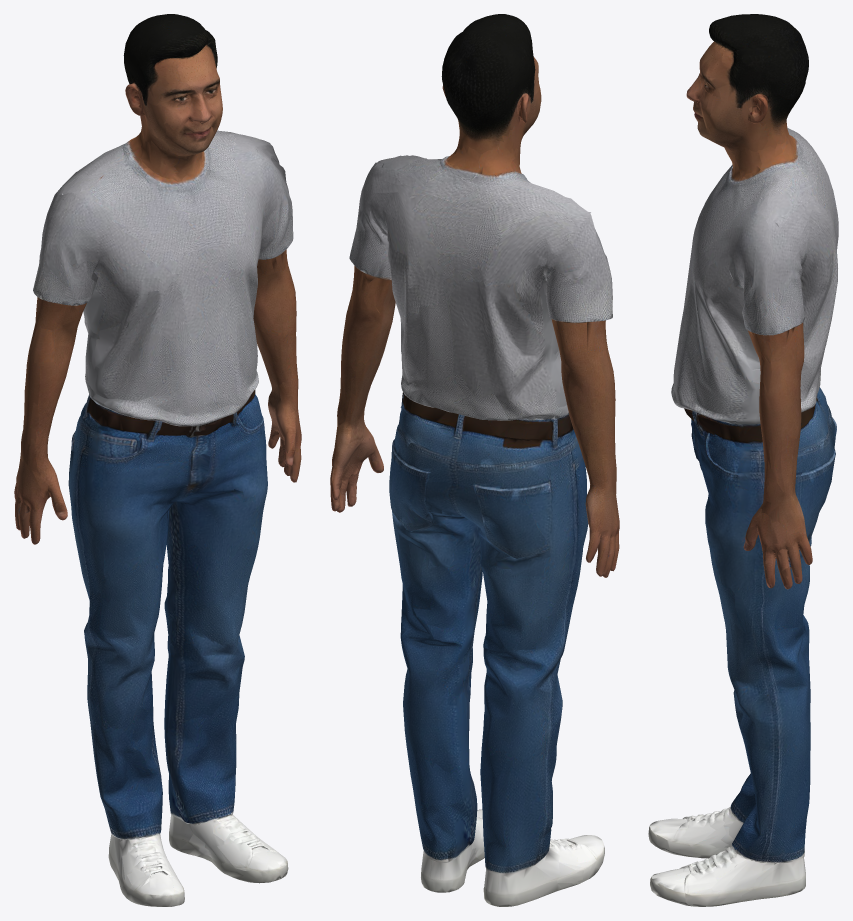
The model's file is player.glb.
The picture shows the model from 3 angles, left to right: view 1: azimuth 30°, elevation 25°; view 2: azimuth 150°, elevation 25°; view 3: azimuth 270°, elevation 25°; orthographic projection.
Visible parts, largest first — view 1: person; view 2: person; view 3: person.
Boxes of the visible parts, x1,y1,x2,y2 form: person: (14, 14, 301, 906); person: (330, 14, 619, 906); person: (648, 14, 838, 906).
Size of what is drawn, in the model's own units: 0.5994 by 1.75 by 0.3539.
1 material, 1 textured.
